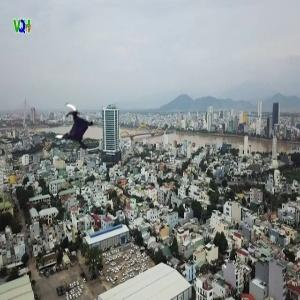drone: (47, 102, 104, 159)
